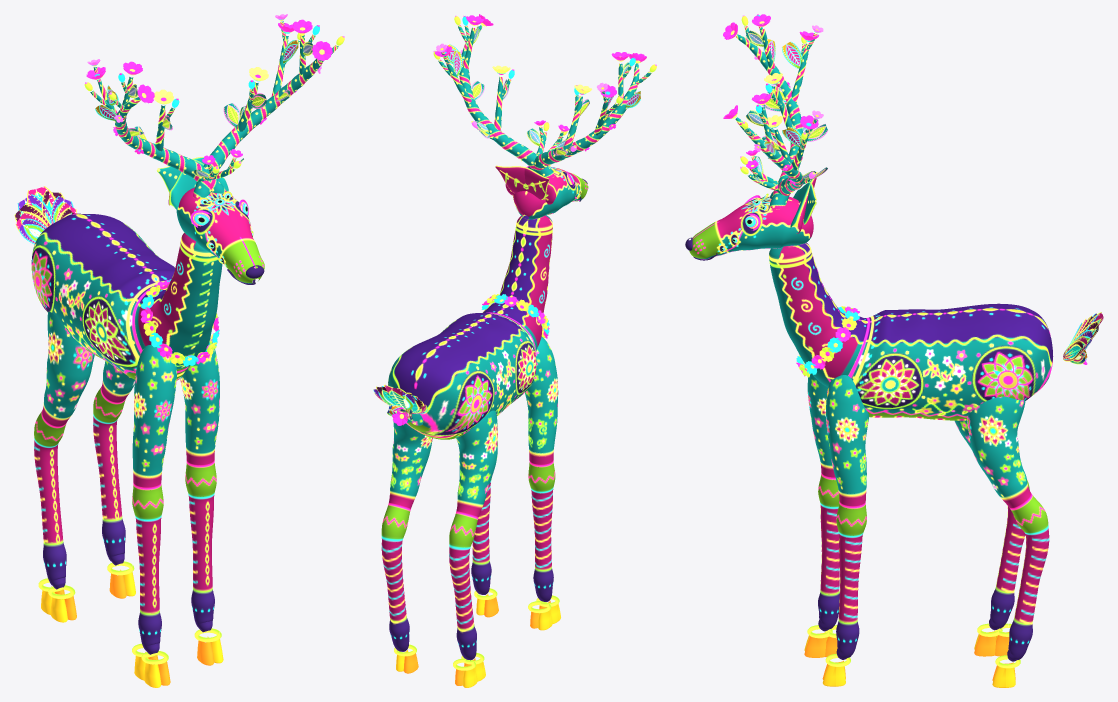
Rendered from alebrije_venado_hero.glb.
3 renders of one model, left to right at view 1: azimuth 30°, elevation 25°; view 2: azimuth 150°, elevation 25°; view 3: azimuth 270°, elevation 25°, orthographic. The views are drawn at different scales.
Visible parts, largest first — view 1: alebrije_venado_hero; view 2: alebrije_venado_hero; view 3: alebrije_venado_hero.
Part boxes in pixels (x1,y1,x2,y2): alebrije_venado_hero: (14,14,344,687); alebrije_venado_hero: (373,14,656,687); alebrije_venado_hero: (685,14,1103,687).
Size of the model in its own units: 0.5655 by 1.5 by 0.9298.
Materials: 3 (3 with a texture image).
